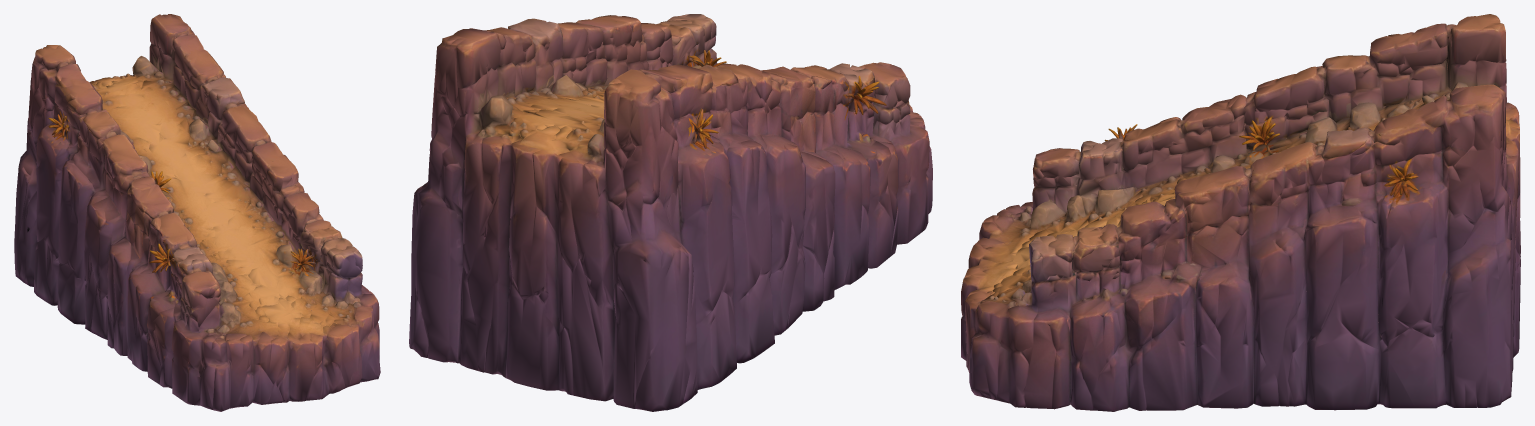
The model's file is puente_alicanto.glb.
3 views of the same model, side by side, from view 1: azimuth 30°, elevation 25°; view 2: azimuth 150°, elevation 25°; view 3: azimuth 270°, elevation 25° (orthographic). The views are drawn at different scales.
Visible parts, largest first — view 1: puente_alicanto; view 2: puente_alicanto; view 3: puente_alicanto.
Part boxes in pixels (x1=…): puente_alicanto: x1=14, y1=14, x2=380, y2=411; puente_alicanto: x1=409, y1=14, x2=932, y2=411; puente_alicanto: x1=961, y1=14, x2=1520, y2=411.
Size of what is drawn, in the model's own units: 7.48 by 8.17 by 14.
1 material, 1 textured.
